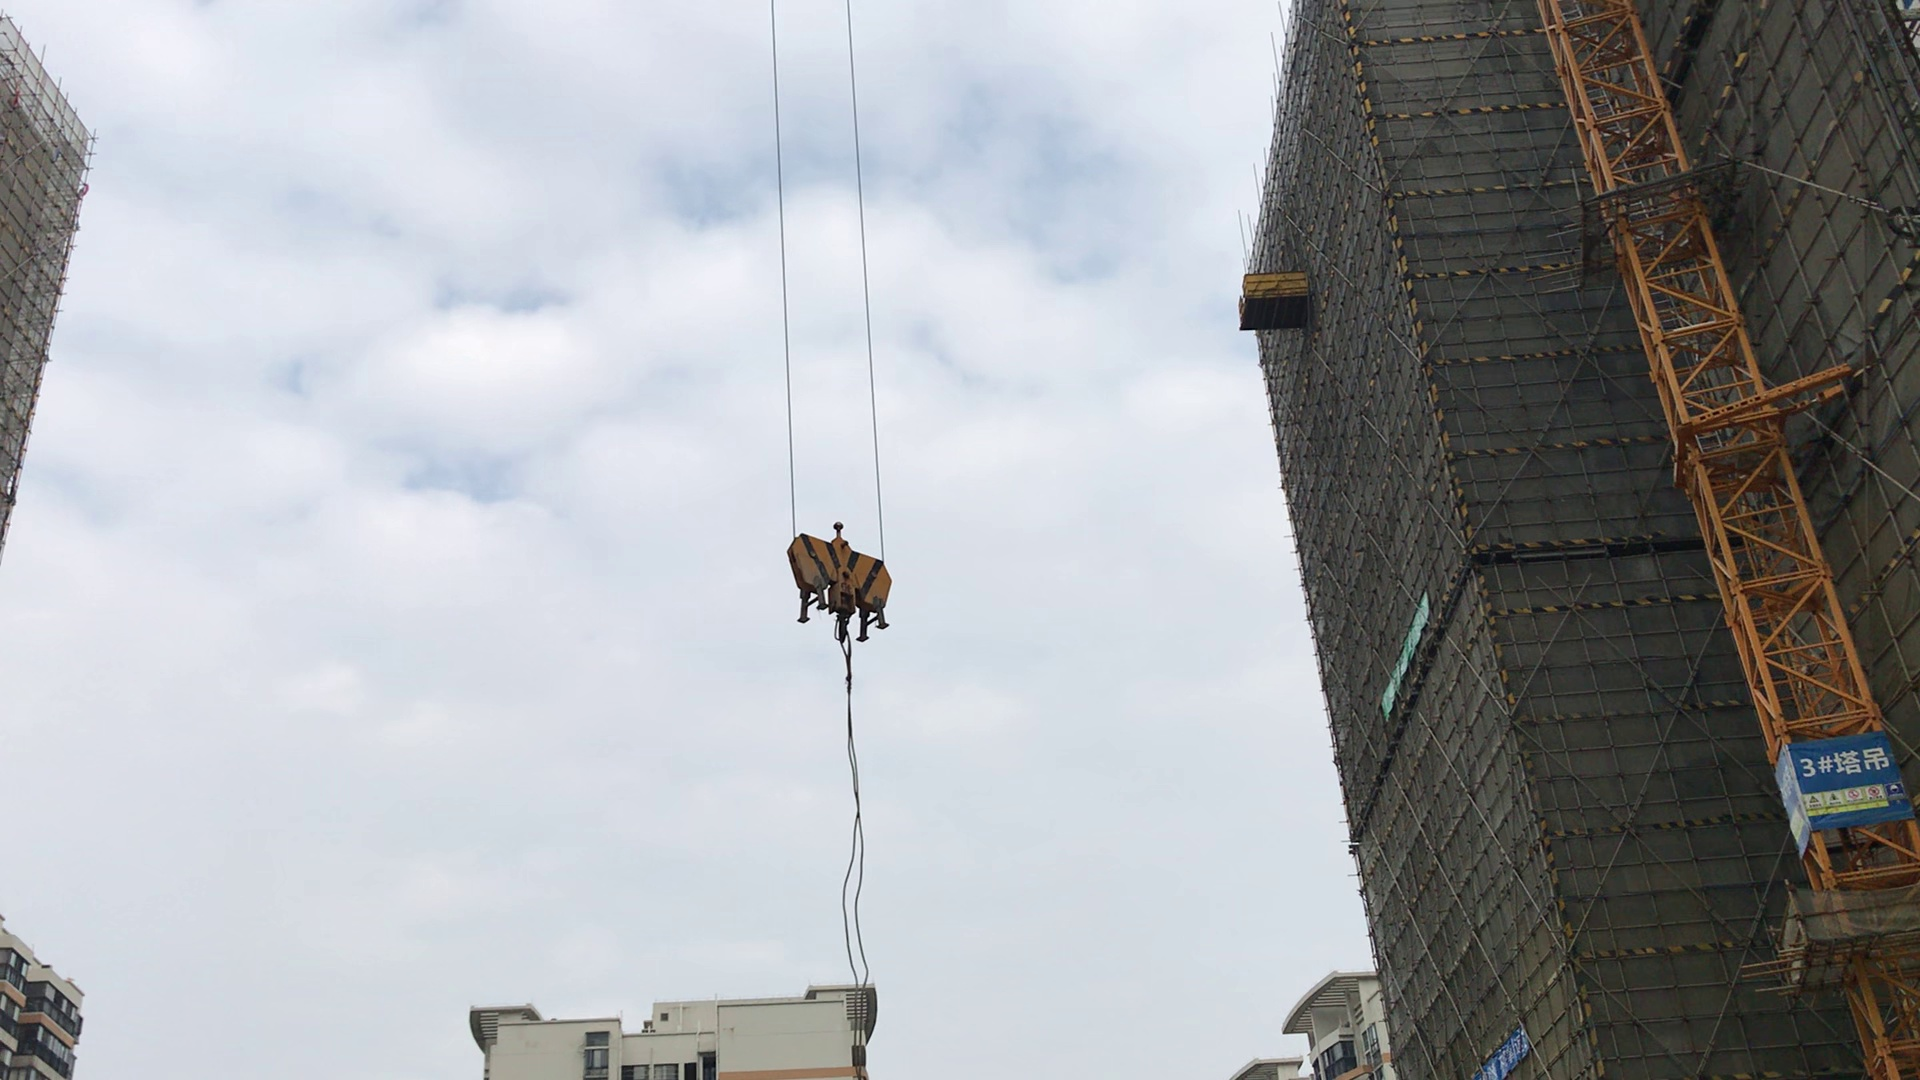fence: (1792, 741, 1896, 815), (1378, 591, 1433, 720), (1474, 1025, 1526, 1080)
hook: (781, 520, 897, 650)
